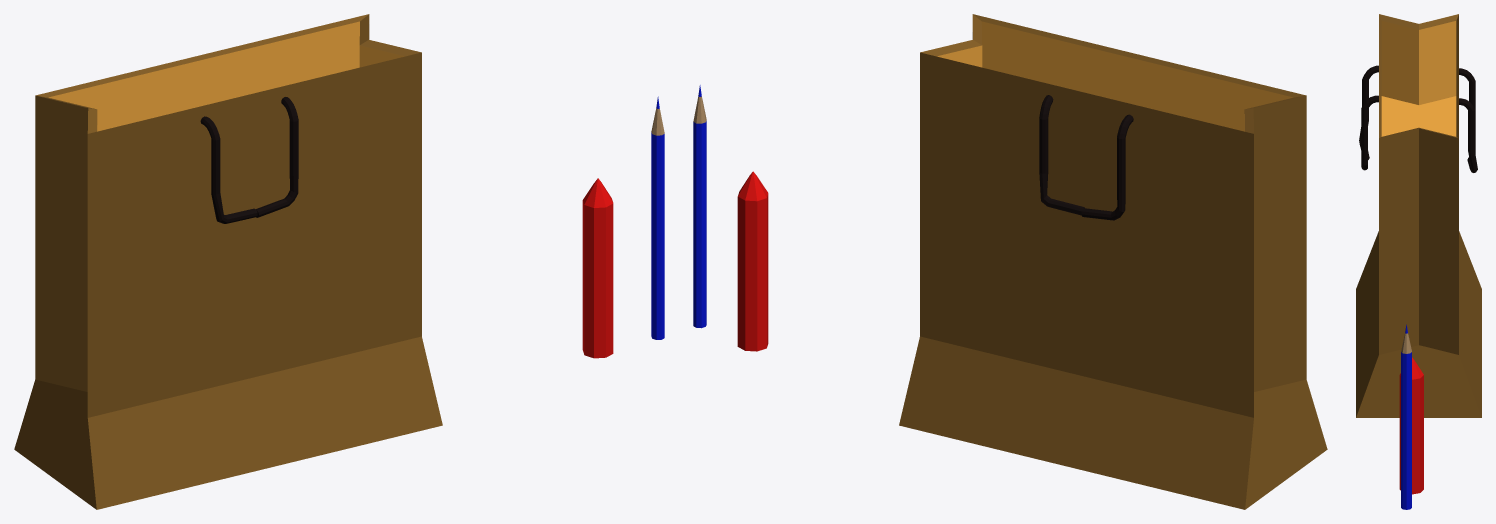
Rendered from Mini_game.fbx.
3 views of the same model, side by side, from view 1: azimuth 30°, elevation 25°; view 2: azimuth 150°, elevation 25°; view 3: azimuth 270°, elevation 25° (orthographic). The views are drawn at different scales.
Parts seen in each view (by area): view 1: Sacola, Lapis2, Lapis1; view 2: Sacola, Lapis2, Lapis1; view 3: Sacola, Lapis1, Lapis2.
Boxes of the visible parts, <box> form: Sacola: <box>14,14,442,509</box>; Lapis2: <box>582,178,613,358</box>; Lapis1: <box>651,96,664,339</box>; Sacola: <box>899,14,1327,509</box>; Lapis2: <box>737,171,768,351</box>; Lapis1: <box>693,85,706,328</box>; Sacola: <box>1356,14,1481,417</box>; Lapis1: <box>1401,324,1411,509</box>; Lapis2: <box>1399,357,1423,494</box>.
Bounding box in the file's own units: 345 × 200 × 82.3.
